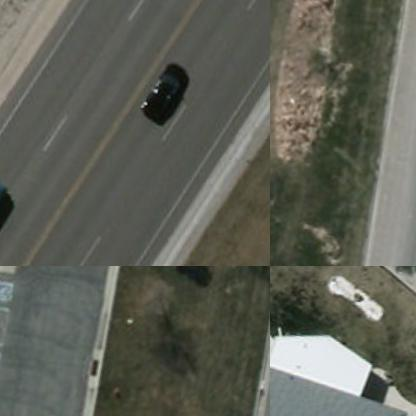car: (134, 58, 192, 132)
